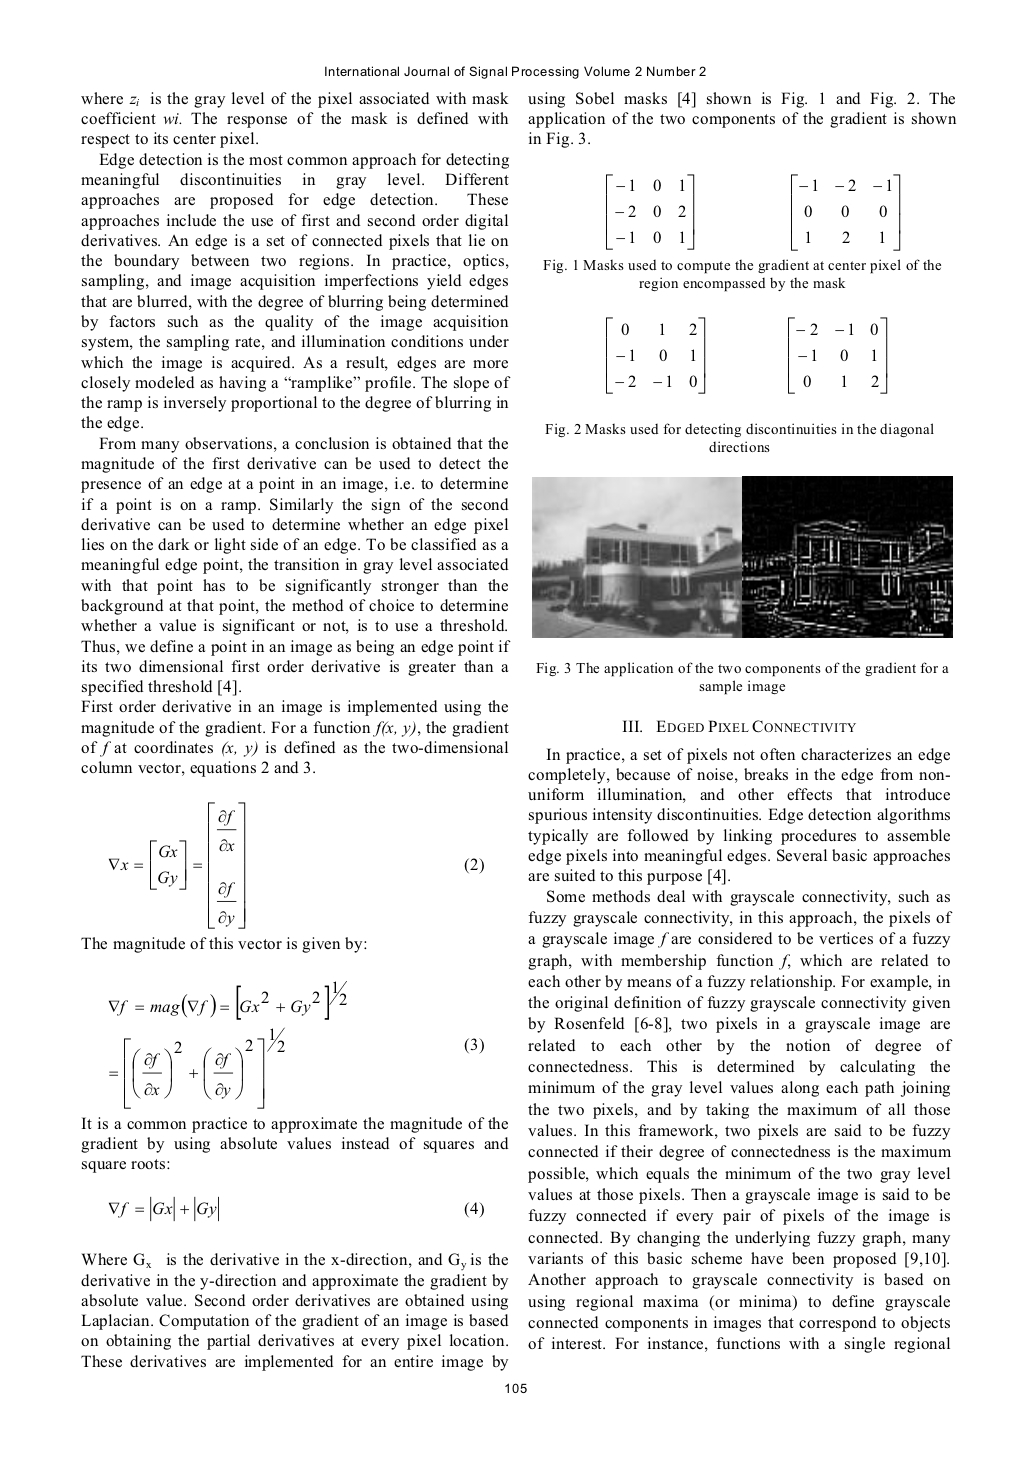figure: (532, 475, 952, 638)
formula: (108, 801, 483, 929), (109, 1026, 483, 1109), (606, 172, 900, 251), (606, 315, 887, 394), (108, 1195, 483, 1223), (108, 980, 346, 1020)
